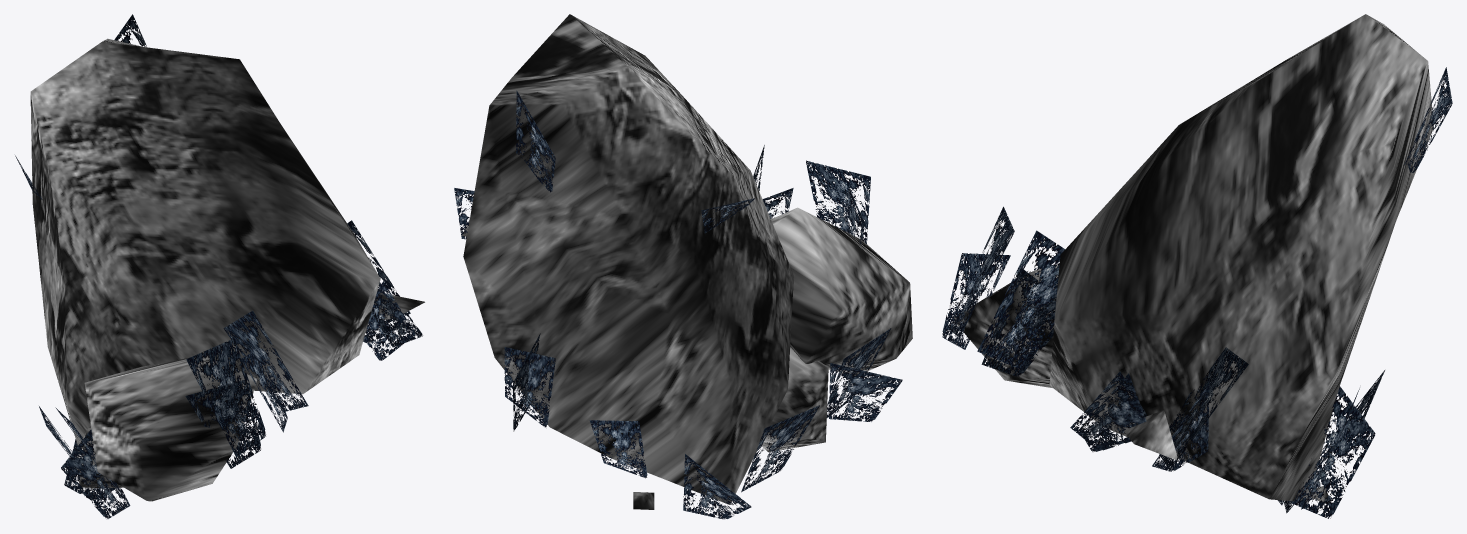
File: Stone02.obj
The picture shows the model from 3 angles, left to right: view 1: azimuth 30°, elevation 25°; view 2: azimuth 150°, elevation 25°; view 3: azimuth 270°, elevation 25°; orthographic projection. The views are drawn at different scales.
Parts seen in each view (by area): view 1: Mesh_0, Mesh_1; view 2: Mesh_0, Mesh_1; view 3: Mesh_0, Mesh_1.
Part boxes in pixels (x1,y1,x2,y2): Mesh_0: [30, 38, 424, 501]; Mesh_1: [15, 14, 422, 518]; Mesh_0: [462, 14, 912, 509]; Mesh_1: [454, 90, 902, 519]; Mesh_0: [952, 14, 1433, 503]; Mesh_1: [942, 67, 1452, 518].
Size of the model in its own units: 2.86 by 3.09 by 2.83.
Materials: 2 (2 with a texture image).
